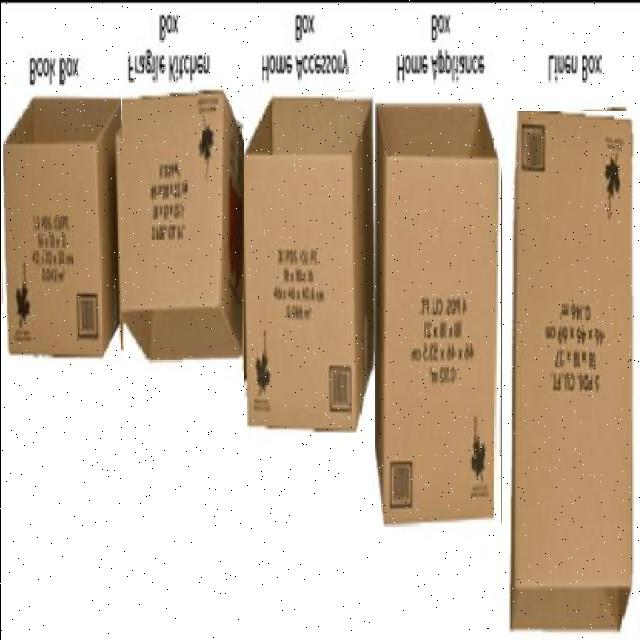normal: (506, 110, 636, 636), (374, 99, 500, 526), (243, 91, 374, 432), (116, 89, 236, 363), (2, 86, 120, 360)
